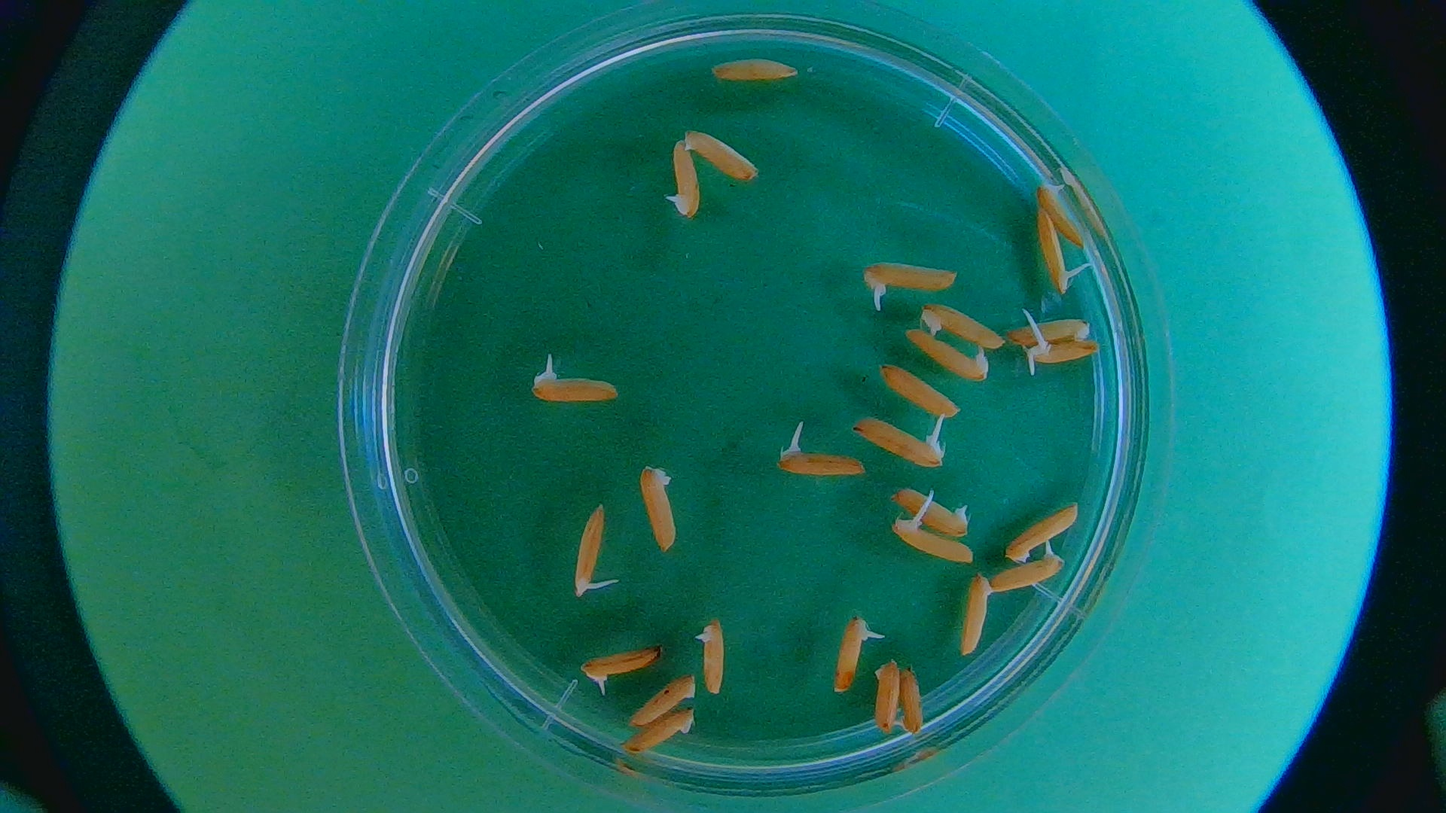no: (882, 480, 977, 538), (877, 360, 962, 421), (679, 127, 759, 185), (921, 296, 1005, 351), (1004, 504, 1079, 563), (637, 461, 679, 554), (1035, 175, 1084, 248), (620, 708, 697, 754), (631, 673, 698, 724), (958, 571, 993, 658), (708, 54, 801, 86), (694, 620, 727, 697), (869, 657, 901, 735), (1010, 314, 1095, 343), (892, 667, 923, 735)
yes: (853, 414, 945, 468), (902, 330, 989, 382), (862, 257, 955, 297), (891, 518, 972, 563), (568, 504, 606, 598), (1034, 211, 1075, 298), (986, 546, 1063, 592), (830, 611, 869, 694), (579, 647, 660, 683), (529, 373, 617, 405), (780, 447, 867, 479), (670, 139, 702, 218), (1018, 335, 1099, 365)
